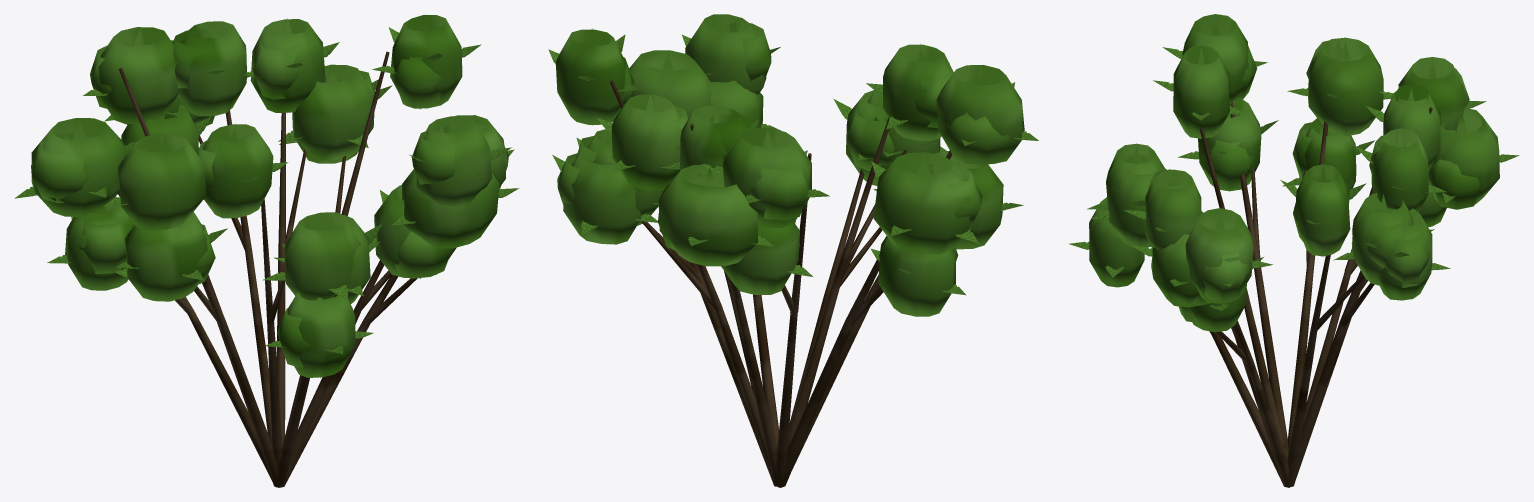
The model's file is filbert_small01-lod0.glb.
3 views of the same model, side by side, from view 1: azimuth 30°, elevation 25°; view 2: azimuth 150°, elevation 25°; view 3: azimuth 270°, elevation 25° (orthographic). The views are drawn at different scales.
Visible parts, largest first — view 1: TZ_filbert_shrub_Batch_00_LOD0, TZ_filbert_shrub_Batch_02_LOD0, TZ_filbert_shrub_Batch_01_LOD0; view 2: TZ_filbert_shrub_Batch_00_LOD0, TZ_filbert_shrub_Batch_02_LOD0, TZ_filbert_shrub_Batch_01_LOD0; view 3: TZ_filbert_shrub_Batch_00_LOD0, TZ_filbert_shrub_Batch_02_LOD0, TZ_filbert_shrub_Batch_01_LOD0.
Part boxes in pixels (<box>): TZ_filbert_shrub_Batch_00_LOD0: <box>31,15,508,377</box>; TZ_filbert_shrub_Batch_02_LOD0: <box>118,51,417,487</box>; TZ_filbert_shrub_Batch_01_LOD0: <box>14,27,519,354</box>; TZ_filbert_shrub_Batch_00_LOD0: <box>555,14,1024,316</box>; TZ_filbert_shrub_Batch_02_LOD0: <box>610,80,951,487</box>; TZ_filbert_shrub_Batch_01_LOD0: <box>548,34,1038,295</box>; TZ_filbert_shrub_Batch_00_LOD0: <box>1089,14,1499,332</box>; TZ_filbert_shrub_Batch_02_LOD0: <box>1199,102,1432,487</box>; TZ_filbert_shrub_Batch_01_LOD0: <box>1068,47,1519,310</box>.
Bounding box in the file's own units: 1.17 × 1.05 × 1.08.
3 materials, 3 textured.
